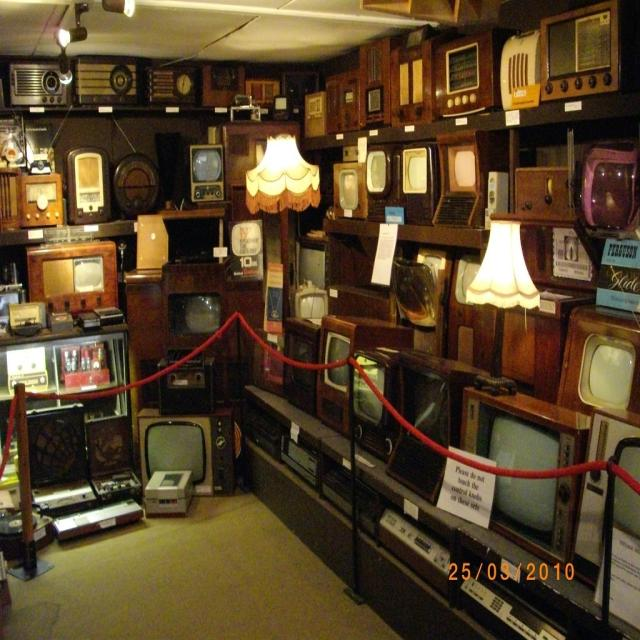E-waste: (284, 54, 640, 640), (0, 50, 273, 549)
